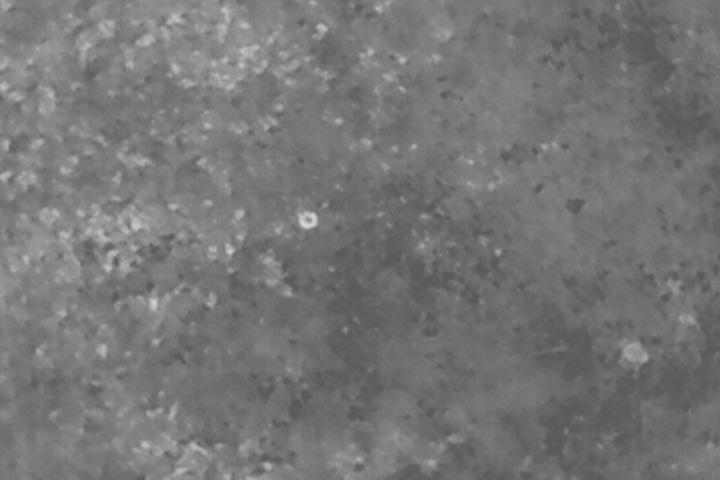landmine: (297, 210, 317, 232)
